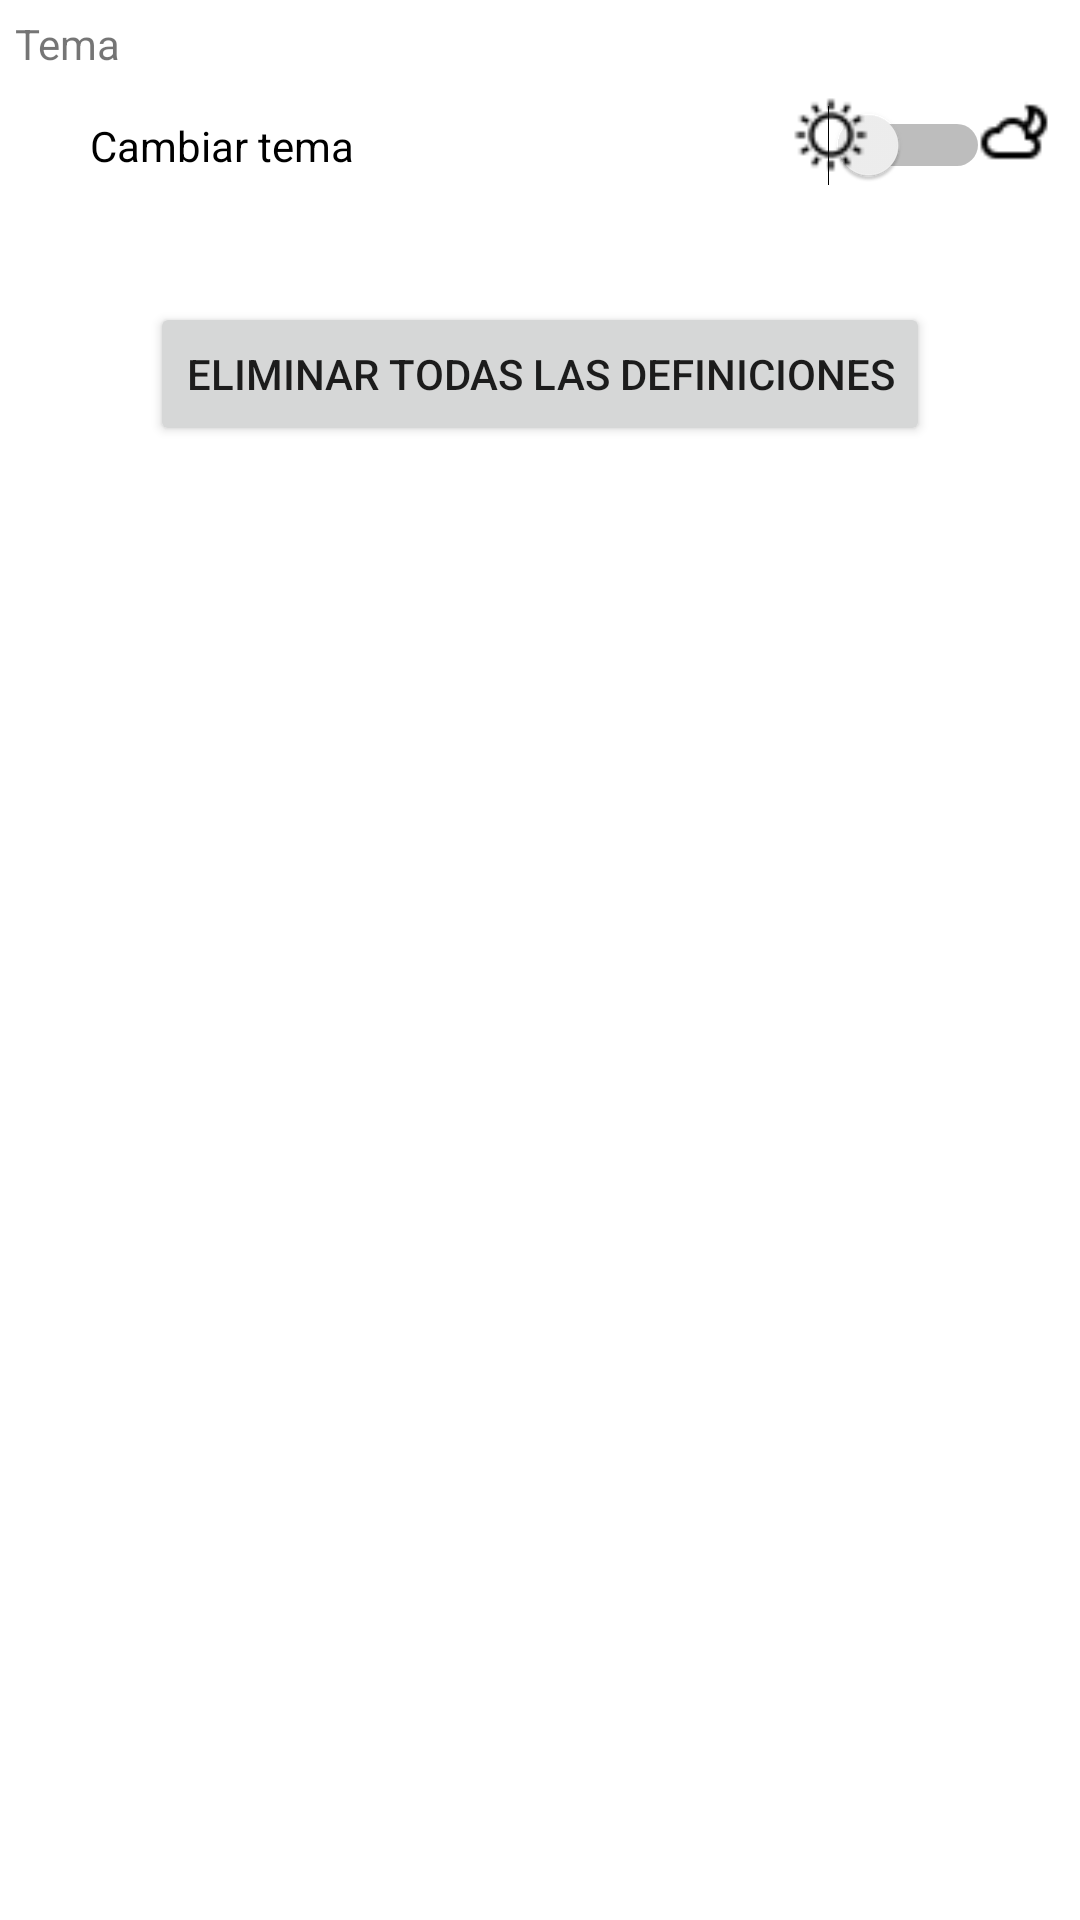

Point at icon controls on the screen. Image size 1080x1920, points as point (x, y).
night theme: point (1014, 132)
theme: point (831, 136)
